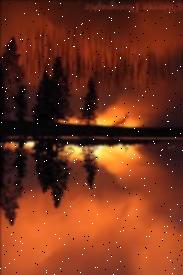fire: (64, 144, 146, 170)
